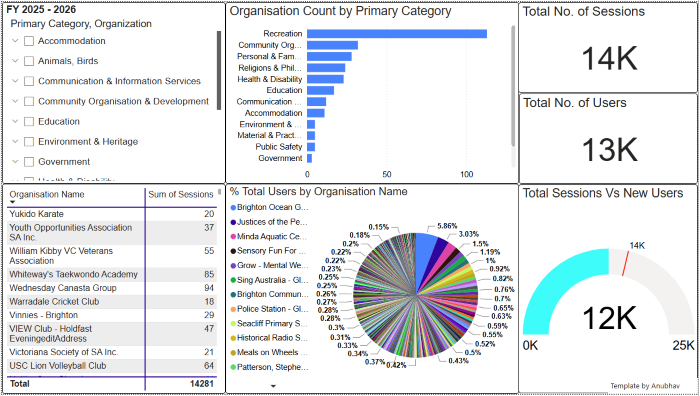

The dashboard page shown, as its layout file describes it:
{"tool":"powerbi","page":{"name":"Dashboard","canvas":[1280,720],"ordinal":0},"visuals":[{"type":"slicer","title":"FY 2025 - 2026","fields":{"Values":["Sheet1.Primary Category","Sheet1.Organisation Name"]},"box":[0,0,411.4,334.3],"z":0},{"type":"tableEx","fields":{"Values":["Sheet1.Organisation Name","Sum(Sheet1.Sessions)"]},"box":[0,334.3,411.4,385.7],"z":1000},{"type":"barChart","title":"Organisation Count by Primary Category","fields":{"Y":["CountNonNull(Sheet1.Sessions)"],"Category":["Sheet1.Primary Category"]},"box":[411.4,0,539.1,334.3],"z":2000},{"type":"pieChart","title":"% Total Users by Organisation Name","fields":{"Category":["Sheet1.Organisation Name"],"Y":["Sum(Sheet1.Total users)"]},"box":[411.4,334.3,539.1,385.7],"z":3000},{"type":"card","title":"Total No. of Sessions","fields":{"Values":["Sum(Sheet1.Sessions)"]},"box":[950.3,0,329.7,167.3],"z":4000},{"type":"card","title":"Total No. of Users","fields":{"Values":["Sum(Sheet1.Total users)"]},"box":[950.5,167.6,329.9,166.7],"z":5000},{"type":"gauge","title":"Total Sessions Vs New Users","fields":{"TargetValue":["Sum(Sheet1.Sessions)"],"Y":["Sum(Sheet1.New users)"]},"box":[950.3,334.6,330.1,384.5],"z":6000},{"type":"textbox","box":[1115.5,690.7,164.9,29.3],"z":7000}]}

Visuals, with their boxes in screenshot pixels (x1, y1, x2, y2), scaled from the page's 1280x720 canvas onto the 700x396 screenshot:
"FY 2025 - 2026" slicer: 0:0:225:184
tableEx - Sheet1.Organisation Name x Sum(Sheet1.Sessions): 0:184:225:395
"Organisation Count by Primary Category" barChart: 225:0:520:184
"% Total Users by Organisation Name" pieChart: 225:184:520:395
"Total No. of Sessions" card: 520:0:699:92
"Total No. of Users" card: 520:92:699:184
"Total Sessions Vs New Users" gauge: 520:184:699:395
textbox: 610:380:699:395
